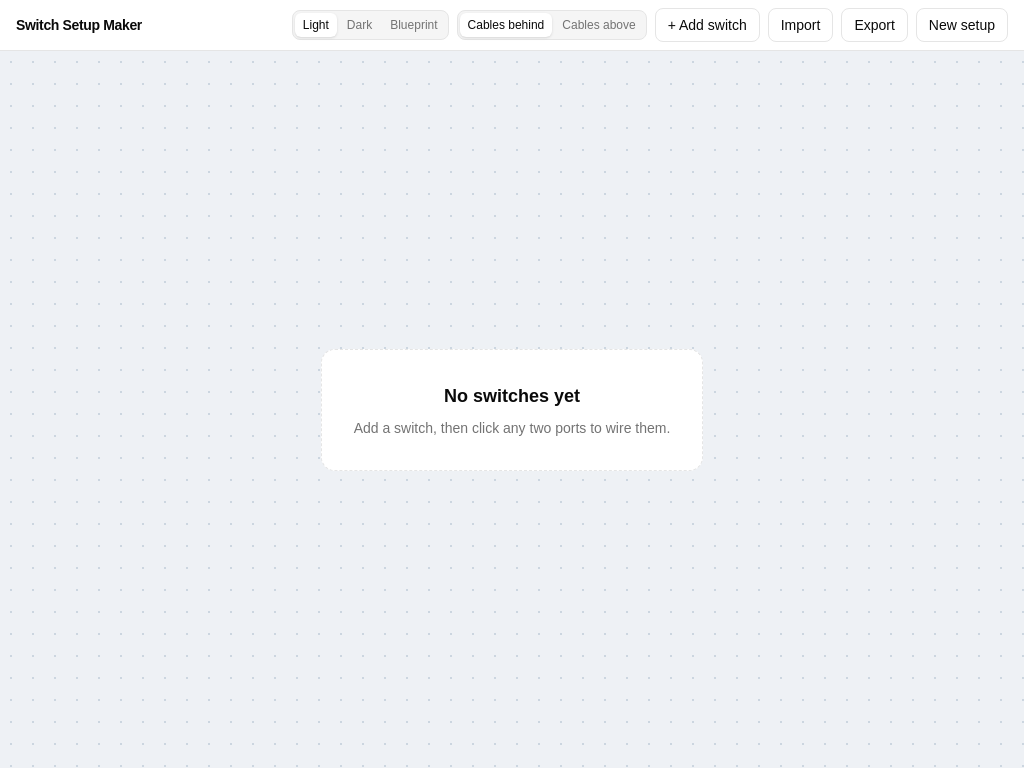
Test: add switch › a preset chip selects the new switch and flips the panel to its editor
Click the button "+ Add switch". click: (707, 25)
box: [655,8,760,42]
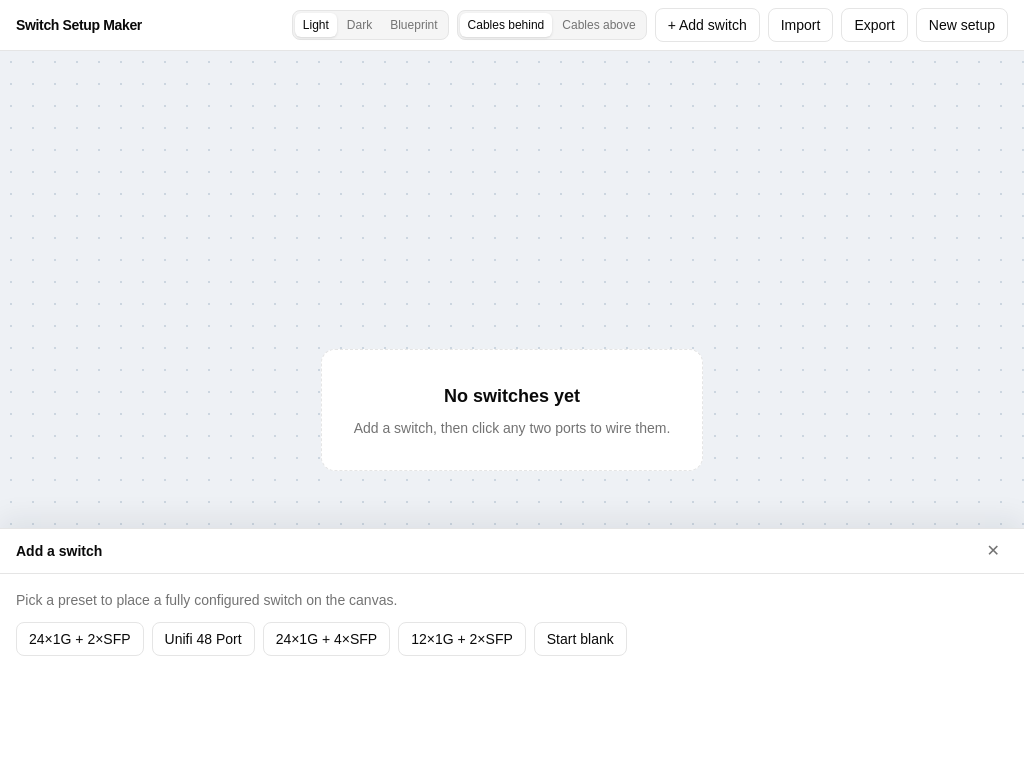
Click the button "24×1G + 2×SFP". click: (80, 639)
box: [16,622,144,656]
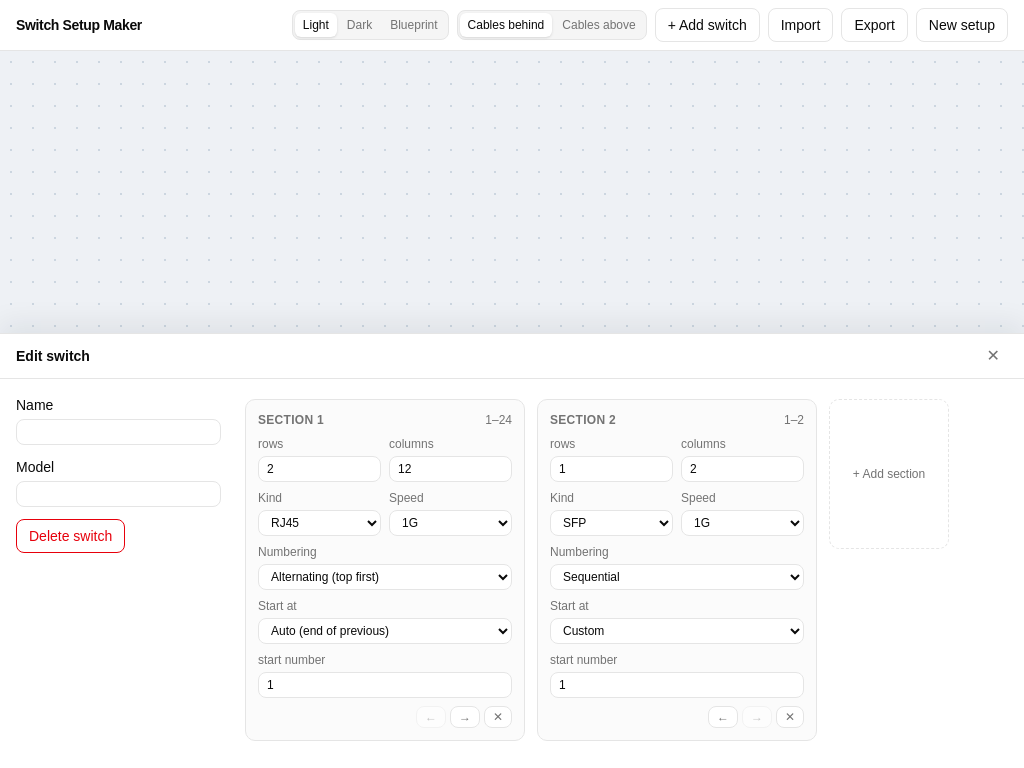
expect the heading "Edit switch" is shown: met, box [16,346,90,366]
expect the field labelled "Name" is empty: met, box [16,419,221,445]
expect the field labelled "Model" is empty: met, box [16,481,221,507]
